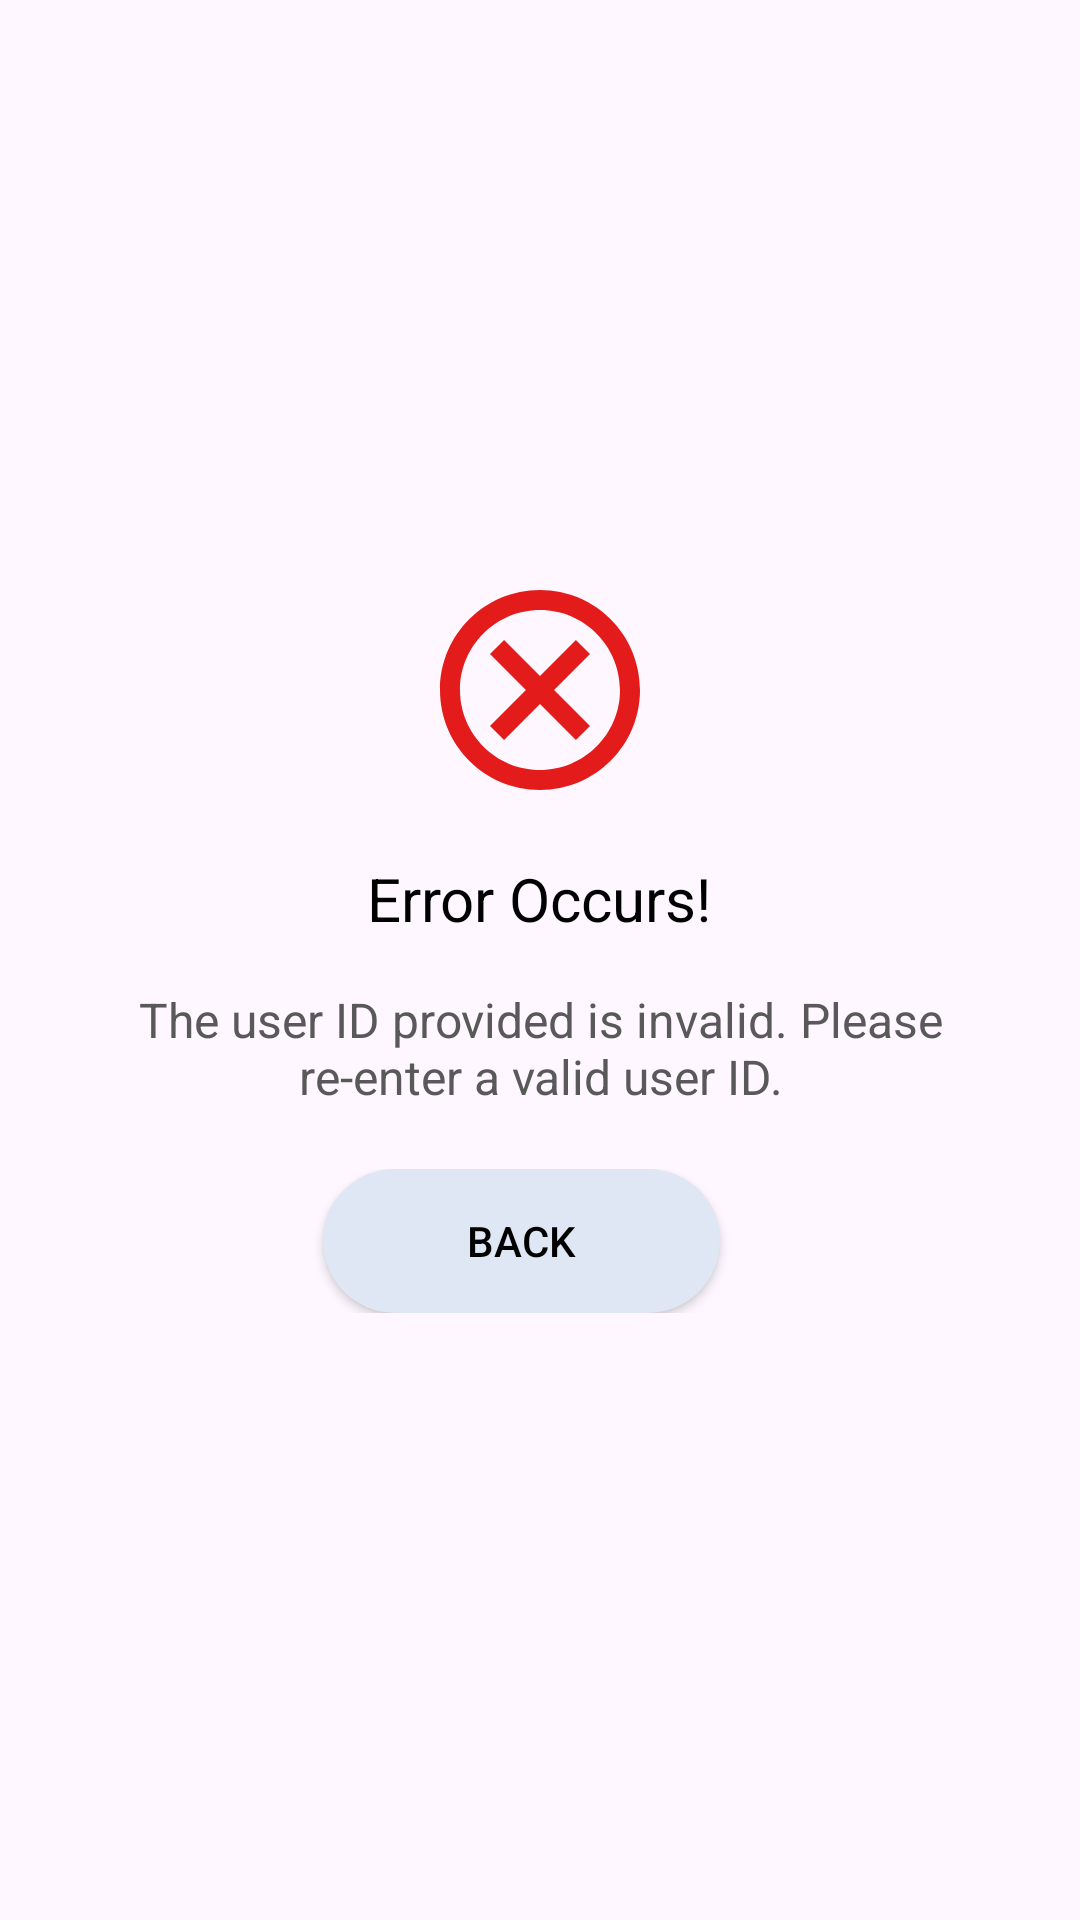

Named icons in this screenshot (1080px x 1920px) and their bounding boxes, (x1, y1, x2, y2):
failed: (440, 590, 640, 790)
